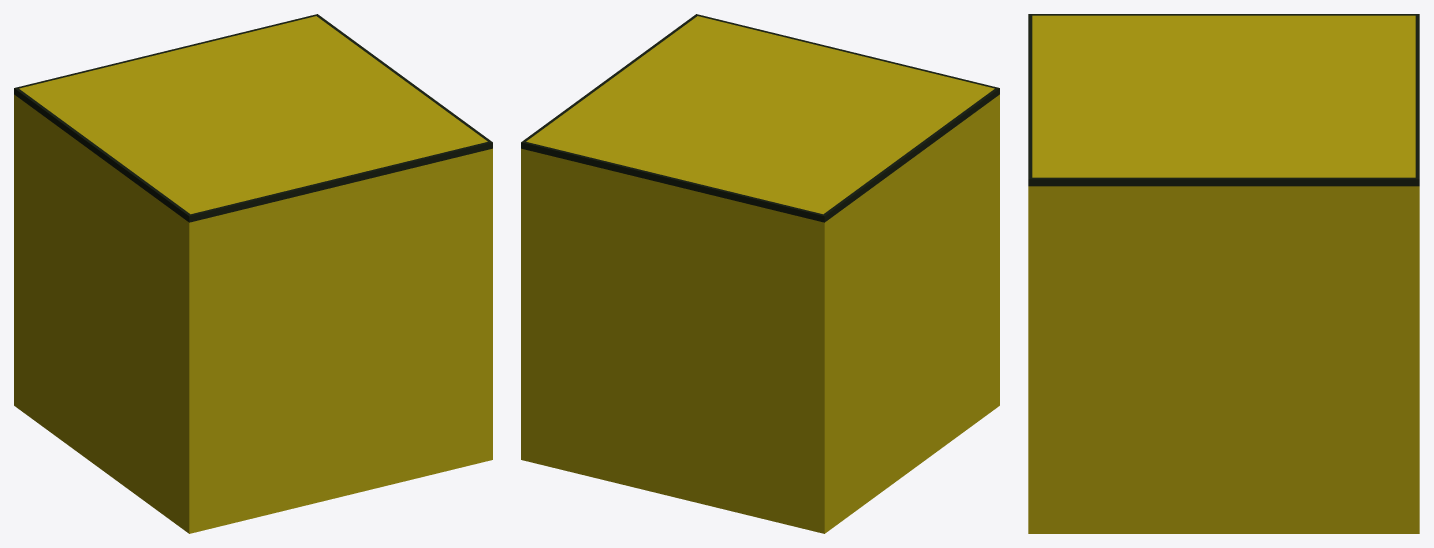
The model's file is BaseCubeOutline002.fbx.
The picture shows the model from 3 angles, left to right: view 1: azimuth 30°, elevation 25°; view 2: azimuth 150°, elevation 25°; view 3: azimuth 270°, elevation 25°; orthographic projection. The views are drawn at different scales.
Visible parts, largest first — view 1: Cube; view 2: Cube; view 3: Cube.
Part boxes in pixels (x1,y1,x2,y2): Cube: (14,14,492,533); Cube: (521,14,999,533); Cube: (1028,14,1419,533).
Size of the model in its own units: 1 by 1 by 1.
